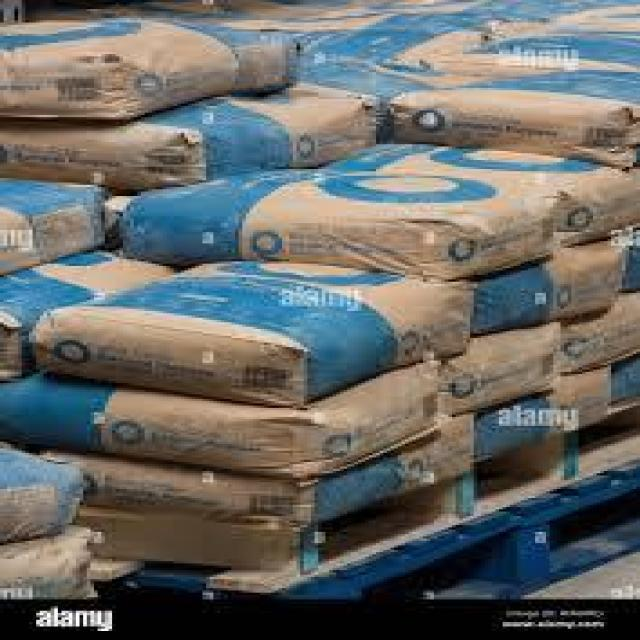gunny_bag: (33, 251, 478, 400), (0, 364, 451, 484), (120, 165, 567, 284), (89, 420, 490, 524), (17, 85, 370, 185), (339, 135, 640, 241), (0, 21, 298, 123), (401, 69, 637, 159), (3, 244, 159, 373), (448, 326, 567, 414), (0, 179, 103, 269), (487, 262, 551, 331)
